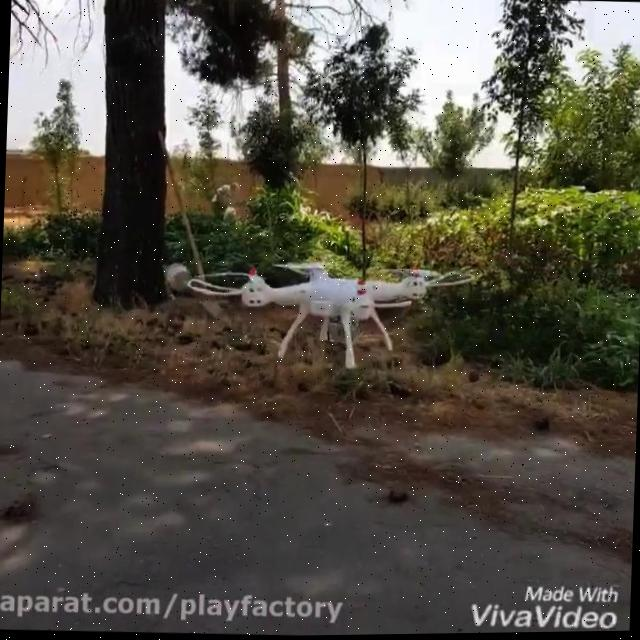drone: (183, 247, 474, 377)
